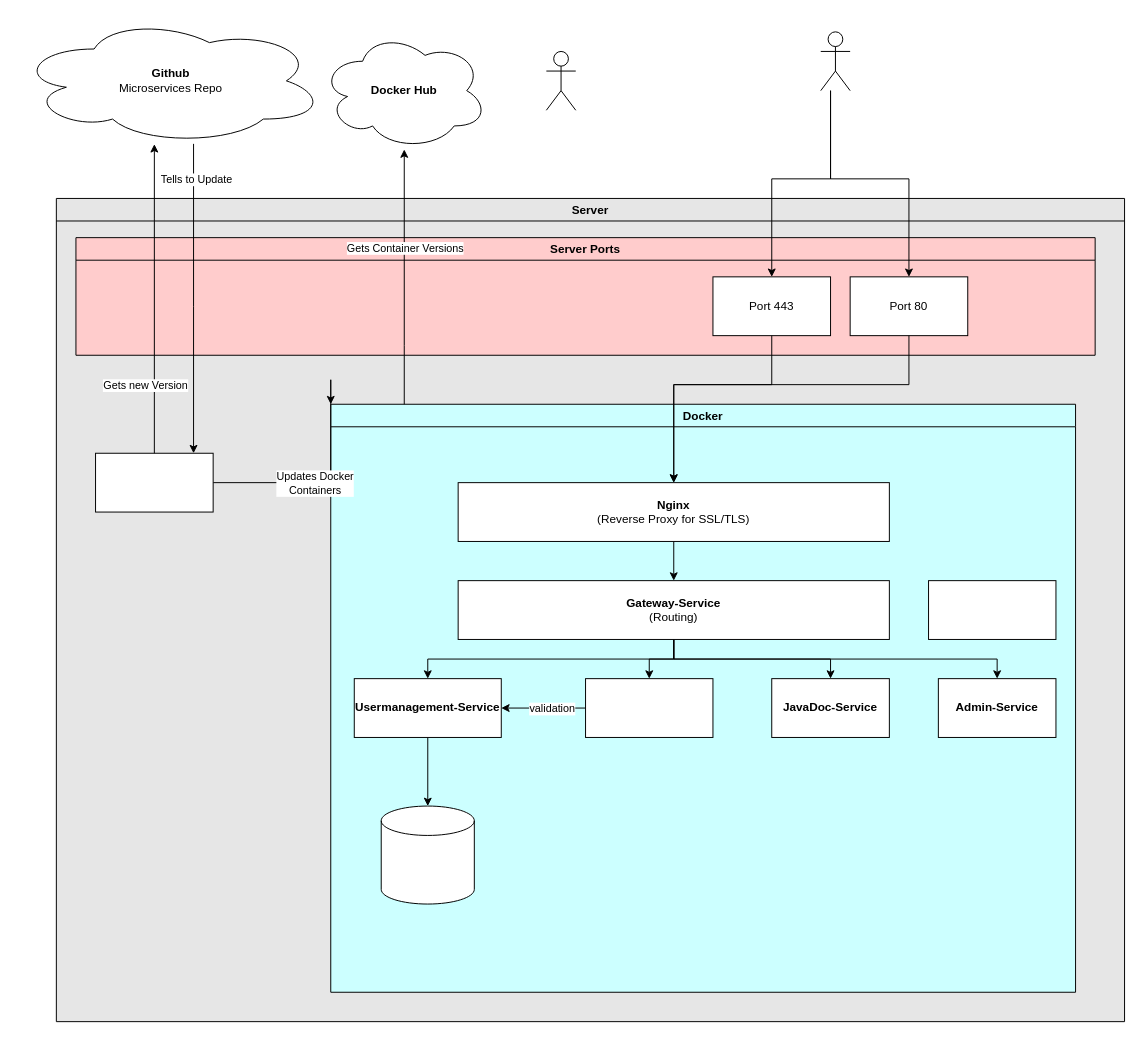
Image size: 1142x1039. Some labels were removed from this diagram. Each missing label, with the centre of its shape:
"Admin" goes at (x=560, y=80).
"Authentication-Service Creates JWT" goes at (x=649, y=707).
"Devtool Contains Commands to update all Services" goes at (x=154, y=482).
"Registry-Service Every Service registers" goes at (x=992, y=609).
"User" goes at (x=835, y=61).
"User-Db" goes at (x=427, y=854).
